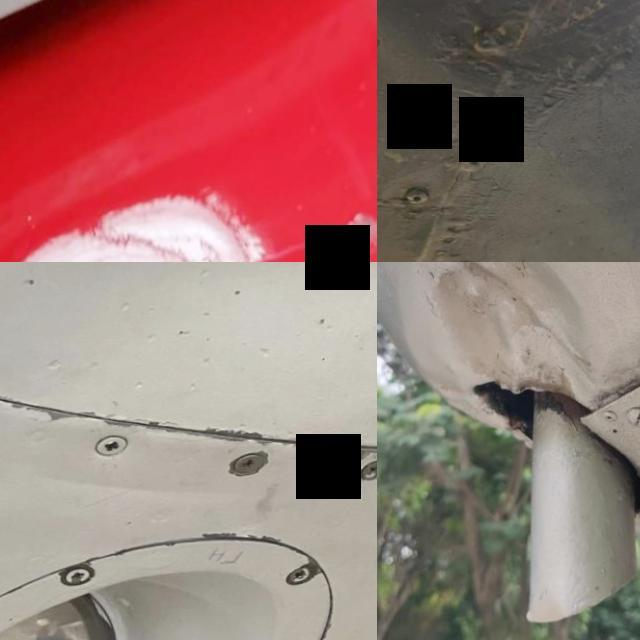Crack: (0, 191, 368, 262)
Dent: (405, 262, 613, 429), (39, 358, 69, 372), (115, 301, 138, 316), (194, 268, 215, 283), (197, 312, 215, 324), (87, 361, 103, 374), (184, 383, 200, 396), (143, 334, 160, 346), (144, 306, 160, 318), (256, 348, 272, 359), (132, 381, 149, 391), (200, 358, 213, 368), (165, 262, 185, 266)
